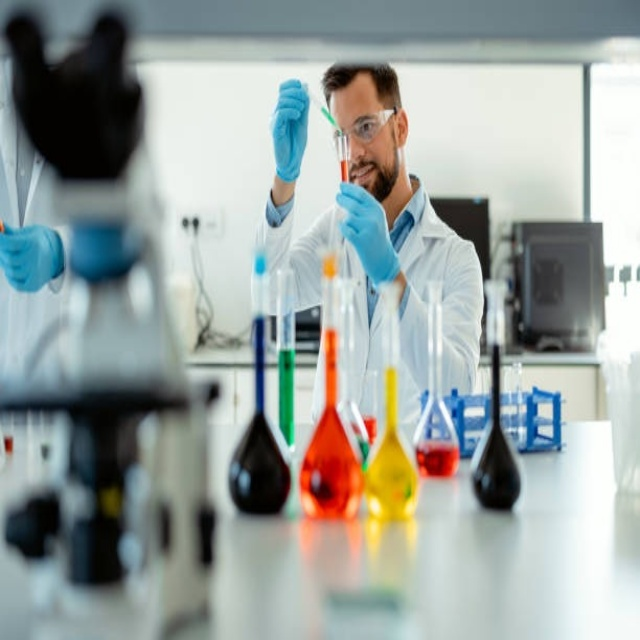Gafas: (420, 385, 564, 457), (332, 106, 398, 152)
Guantes: (335, 182, 401, 289), (0, 221, 64, 294), (270, 78, 309, 183)
Sin_mascara: (352, 164, 375, 182)
